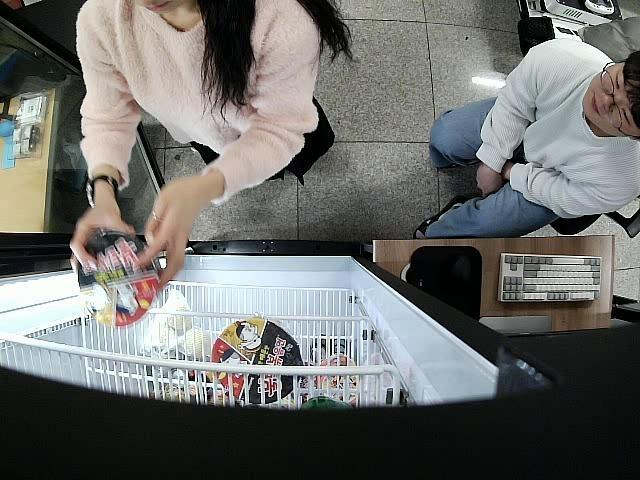07_buldak_L: (74, 233, 164, 328)
